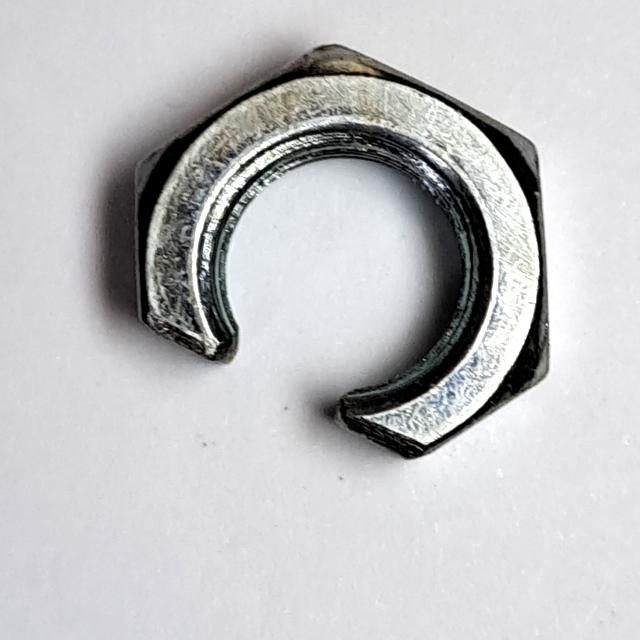Fracture: (111, 29, 567, 472)
